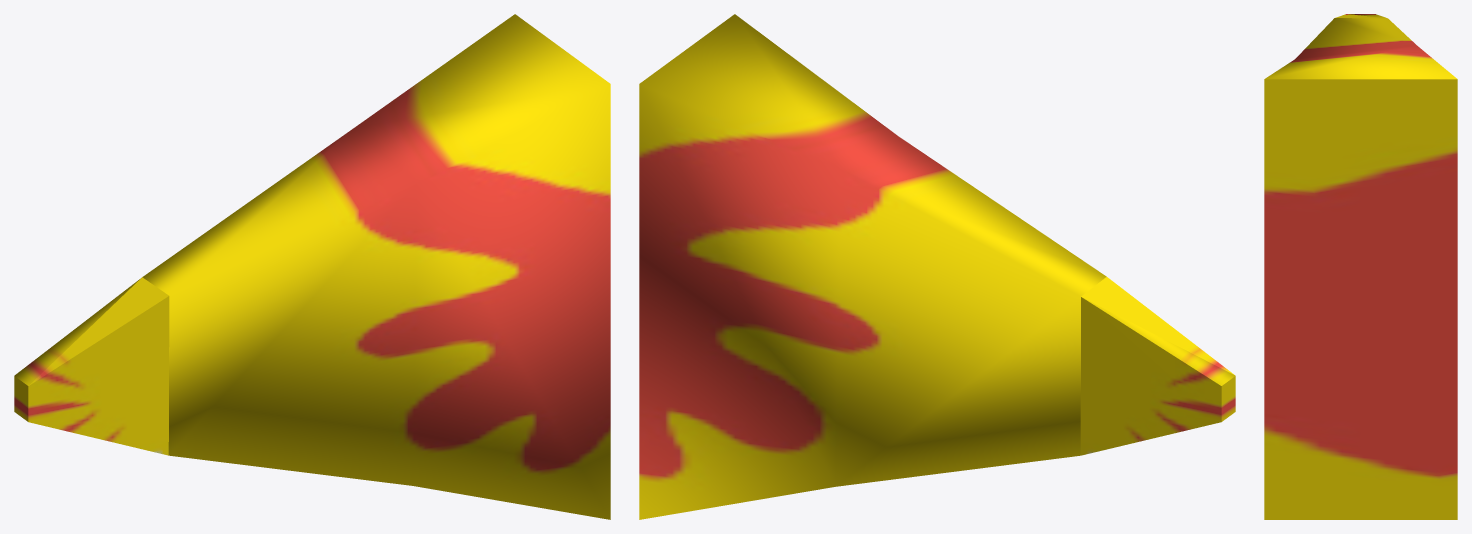
The model's file is Fish6_2.dae.
3 views of the same model, side by side, from view 1: azimuth 30°, elevation 25°; view 2: azimuth 150°, elevation 25°; view 3: azimuth 270°, elevation 25° (orthographic).
Visible parts, largest first — view 1: Cube_Cube_000; view 2: Cube_Cube_000; view 3: Cube_Cube_000.
Part boxes in pixels (x1,y1,x2,y2): Cube_Cube_000: [14, 14, 610, 519]; Cube_Cube_000: [639, 14, 1235, 519]; Cube_Cube_000: [1264, 14, 1457, 519].
Bounding box in the file's own units: 2.03 × 0.6215 × 1.56.
Materials: 2 (2 with a texture image).
